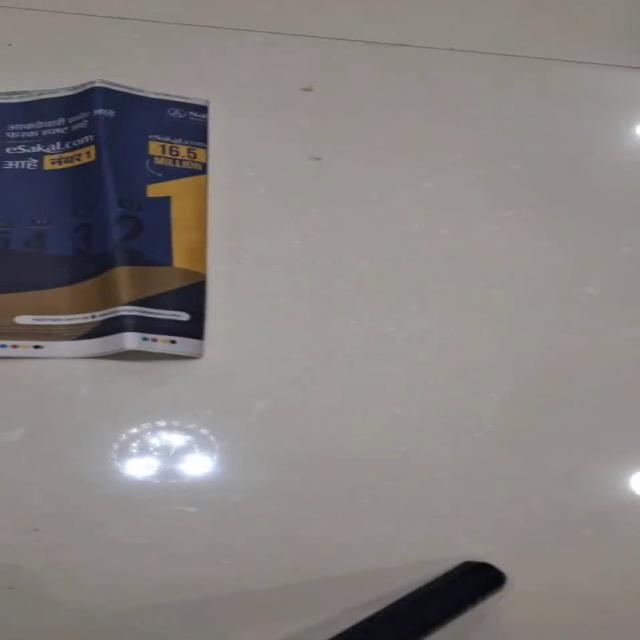paper: (0, 78, 209, 359)
